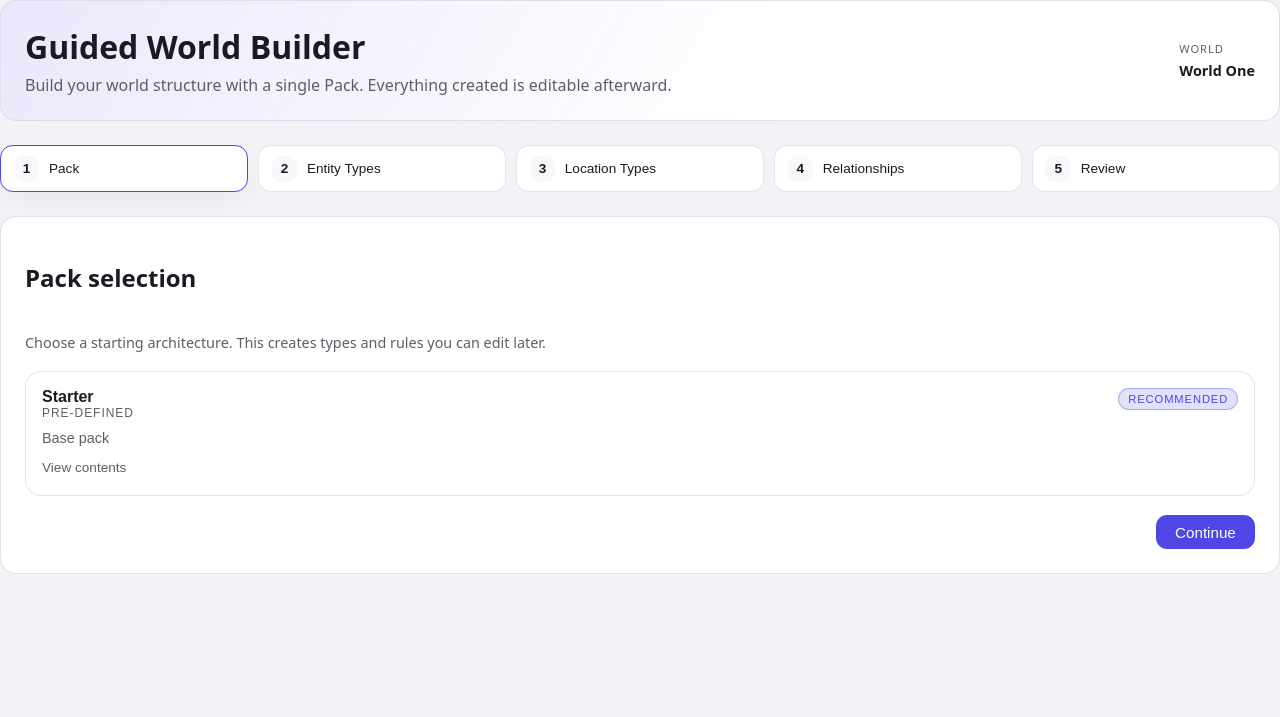
Test case: WorldBuilder › navigates back to a step when using review edit actions
Click the text "Starter" at (68, 397), box [42,388,94,405]
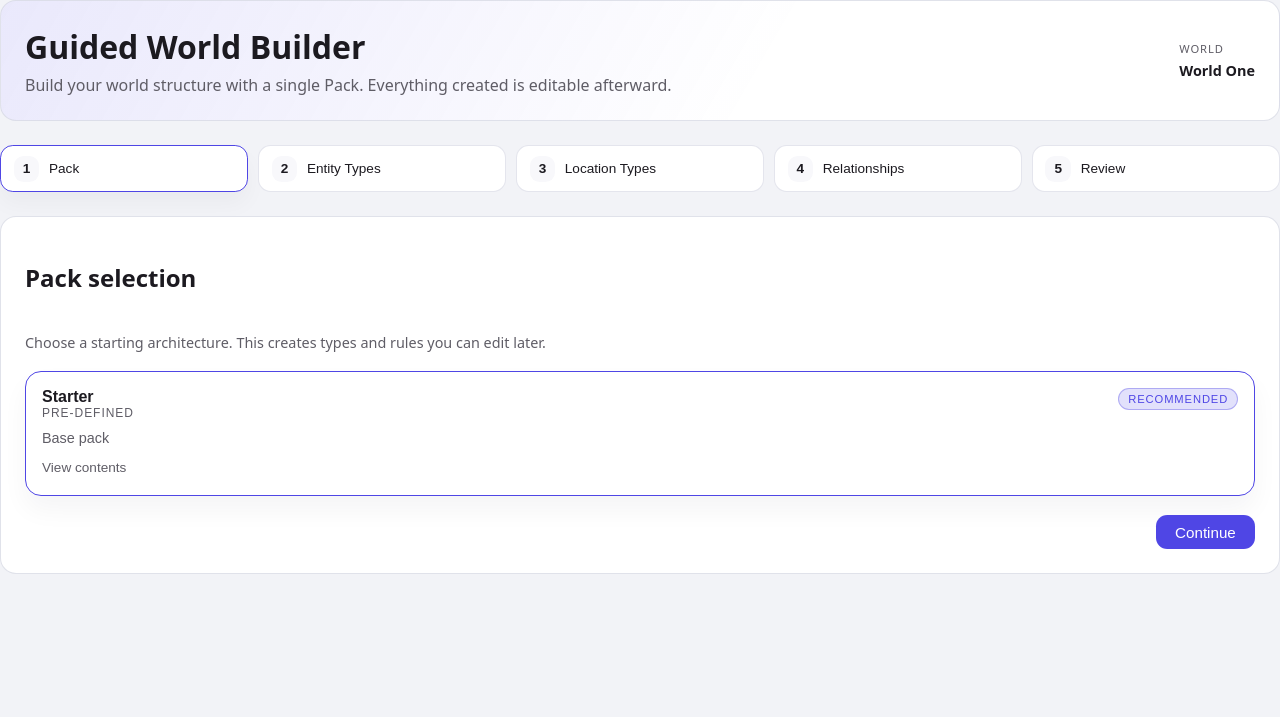
Click the button "Continue" at (1205, 532), box [1156,515,1255,549]
(page scrolled)
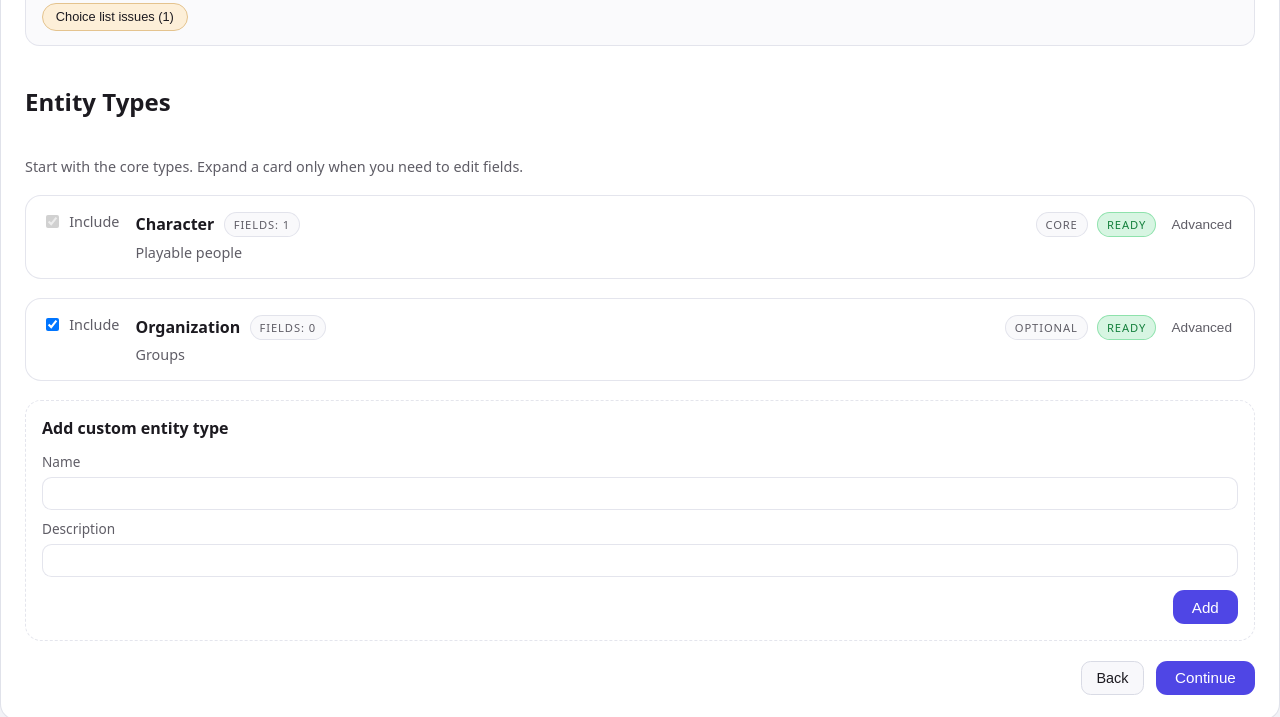
Now the heading "Entity Types" is shown, box [25,85,171,118]
Click the button "Continue" at (1205, 678), box [1156,661,1255,695]
(page scrolled)
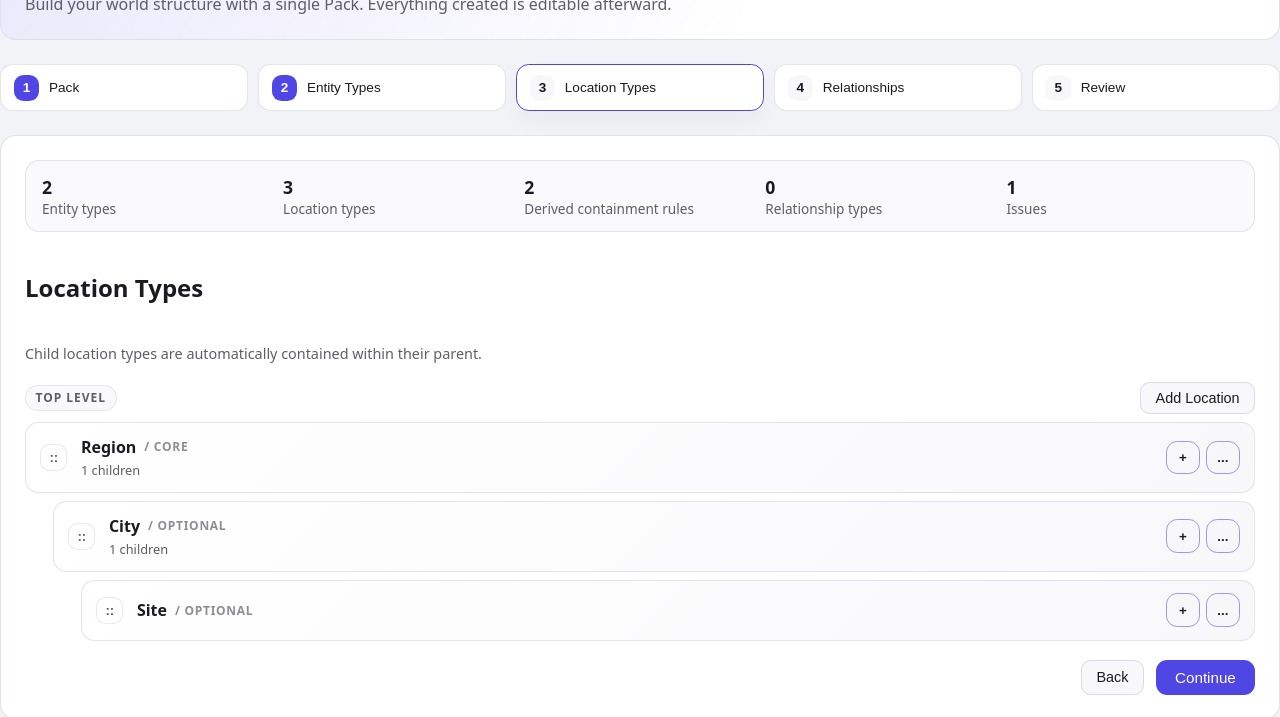
Click the button "Continue" at (1205, 677), box [1156,660,1255,695]
(page scrolled)
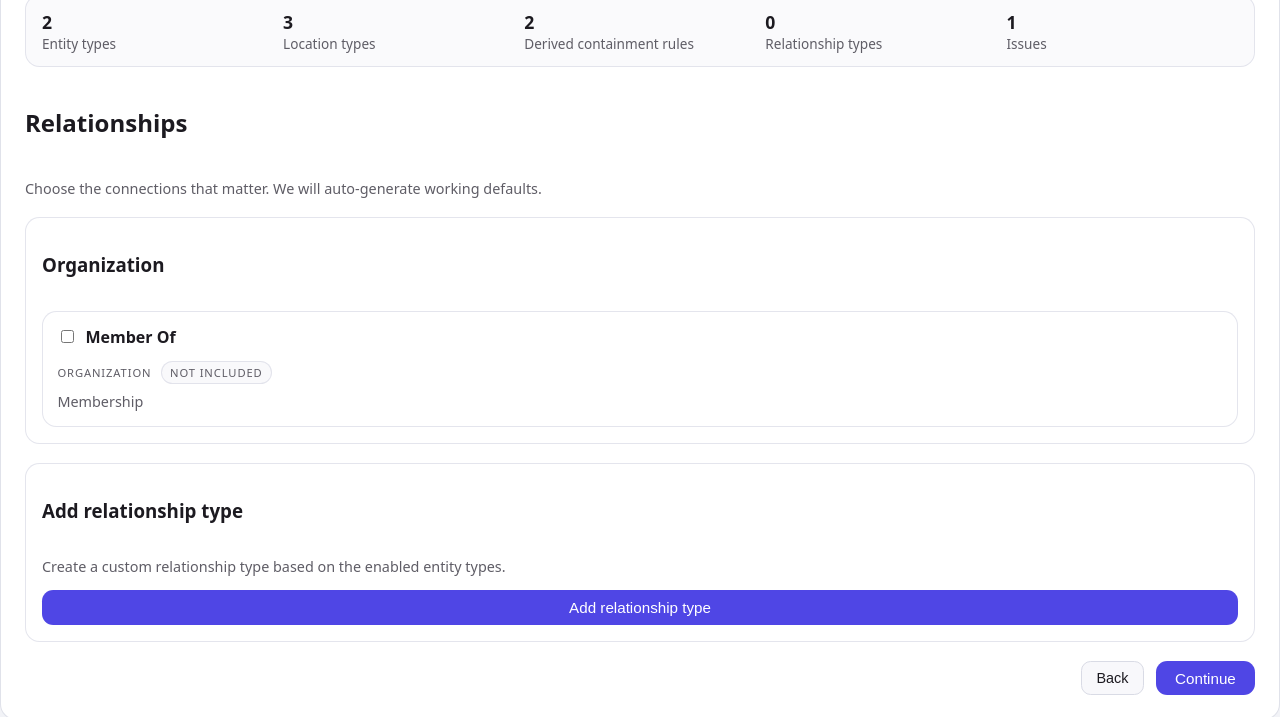
Click the button "Continue" at (1205, 678), box [1156,661,1255,695]
(page scrolled)
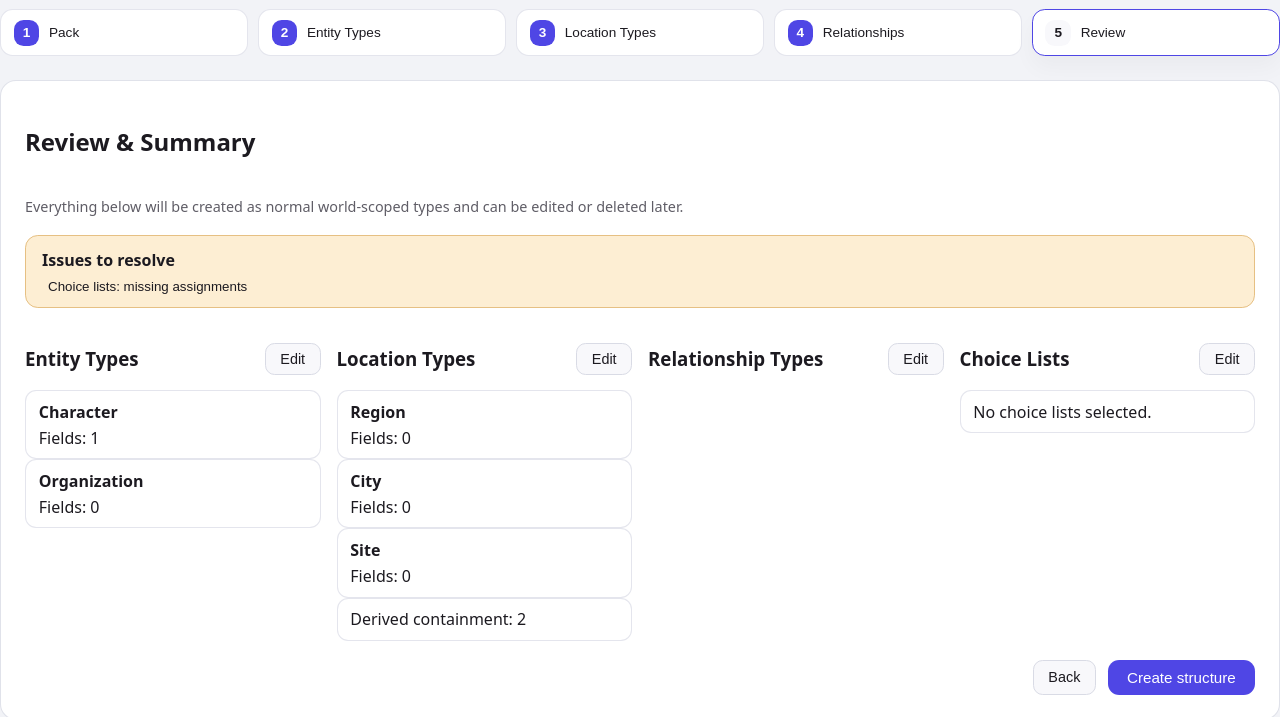
Now the heading "Review & Summary" is shown, box [25,125,255,158]
Click the 1st button "Edit" at (293, 359), box [265,343,320,375]
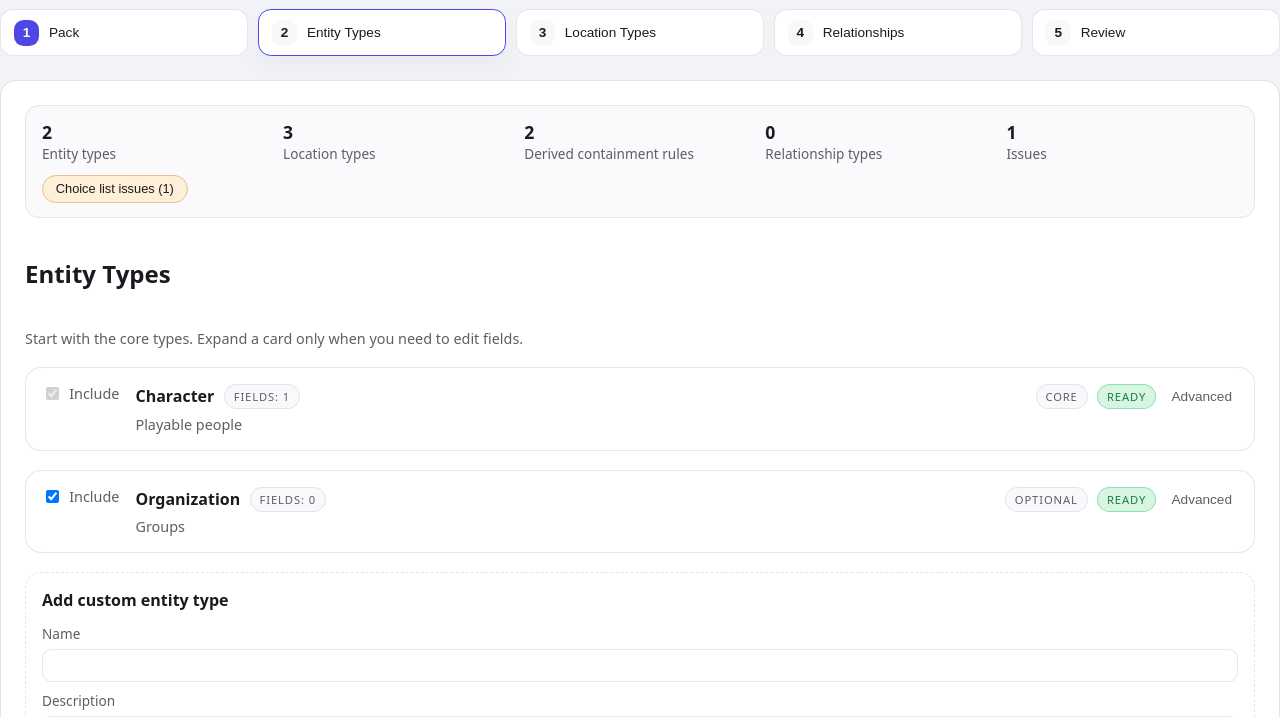
Now the heading "Entity Types" is shown, box [25,257,171,290]
